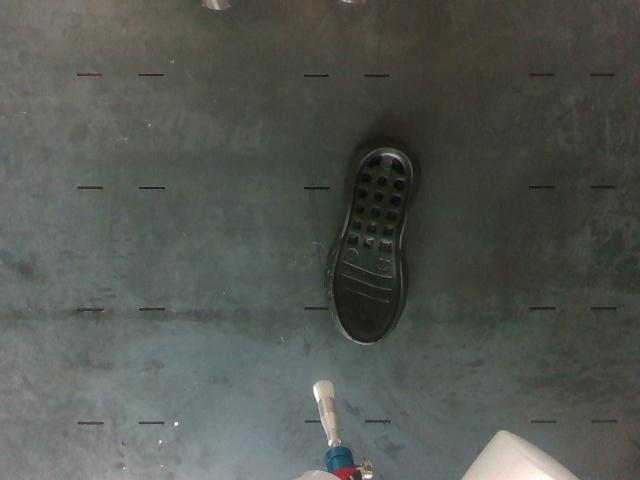shoes: (332, 148, 412, 344)
